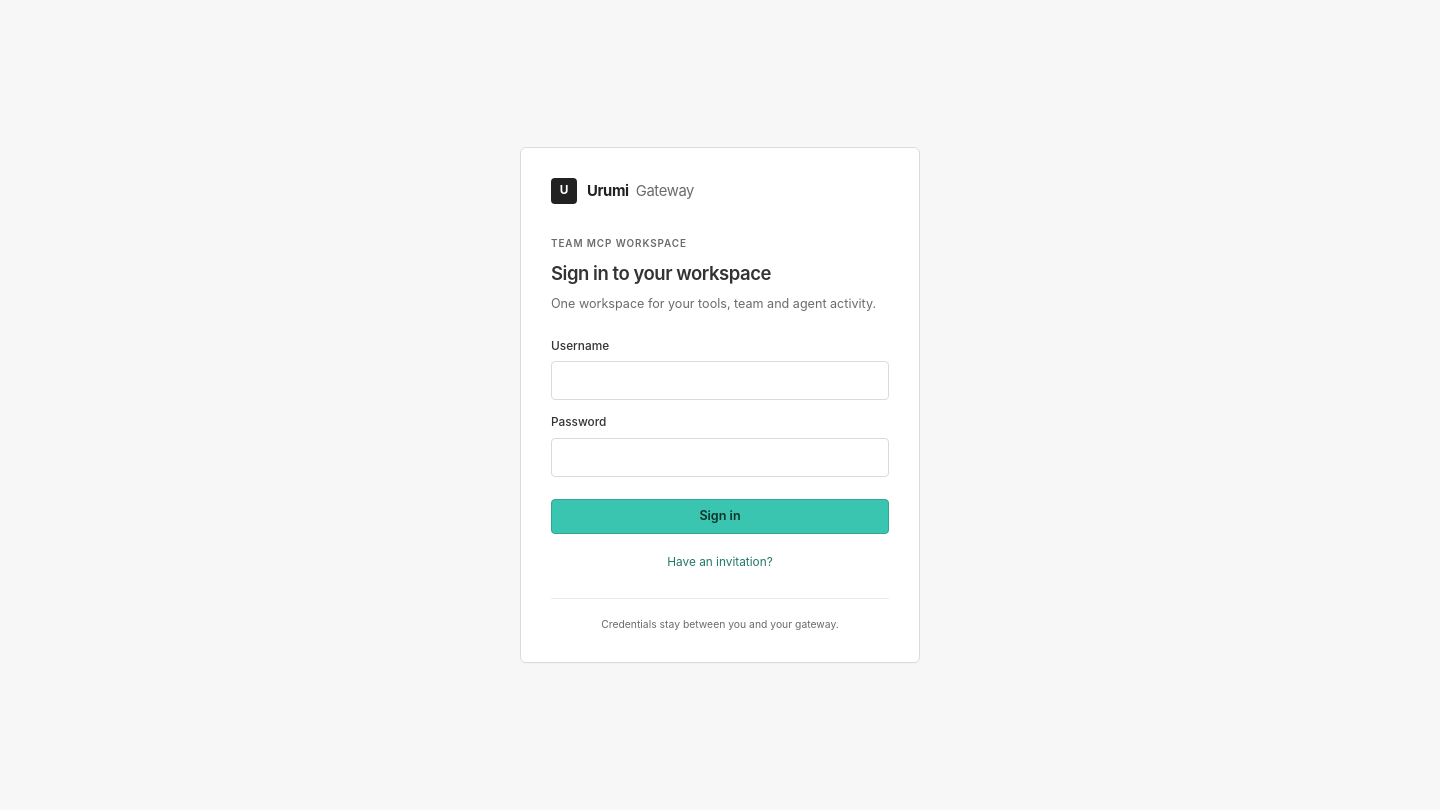
it: loads login then me and signs out
This screenshot has width=1440, height=810.
Expected: the button "Sign in" is shown, [551,499,889,534]
Step 1. Type "fixture_admin" into the field labelled "Username" → (720,381), box [551,361,889,400]
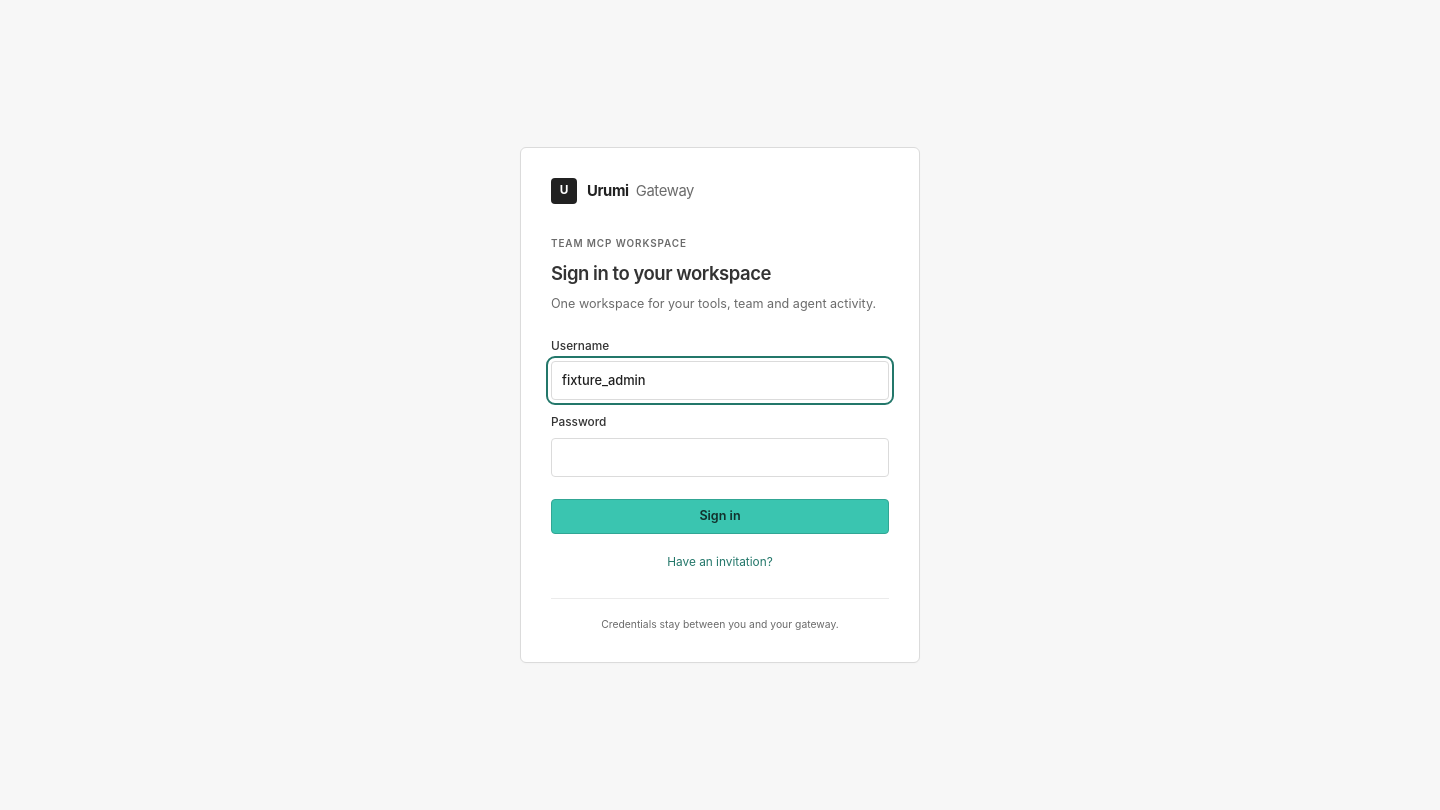
Step 2. Type "synthetic-password-only" into the password field labelled "Password" → (720,457), box [551,438,889,477]
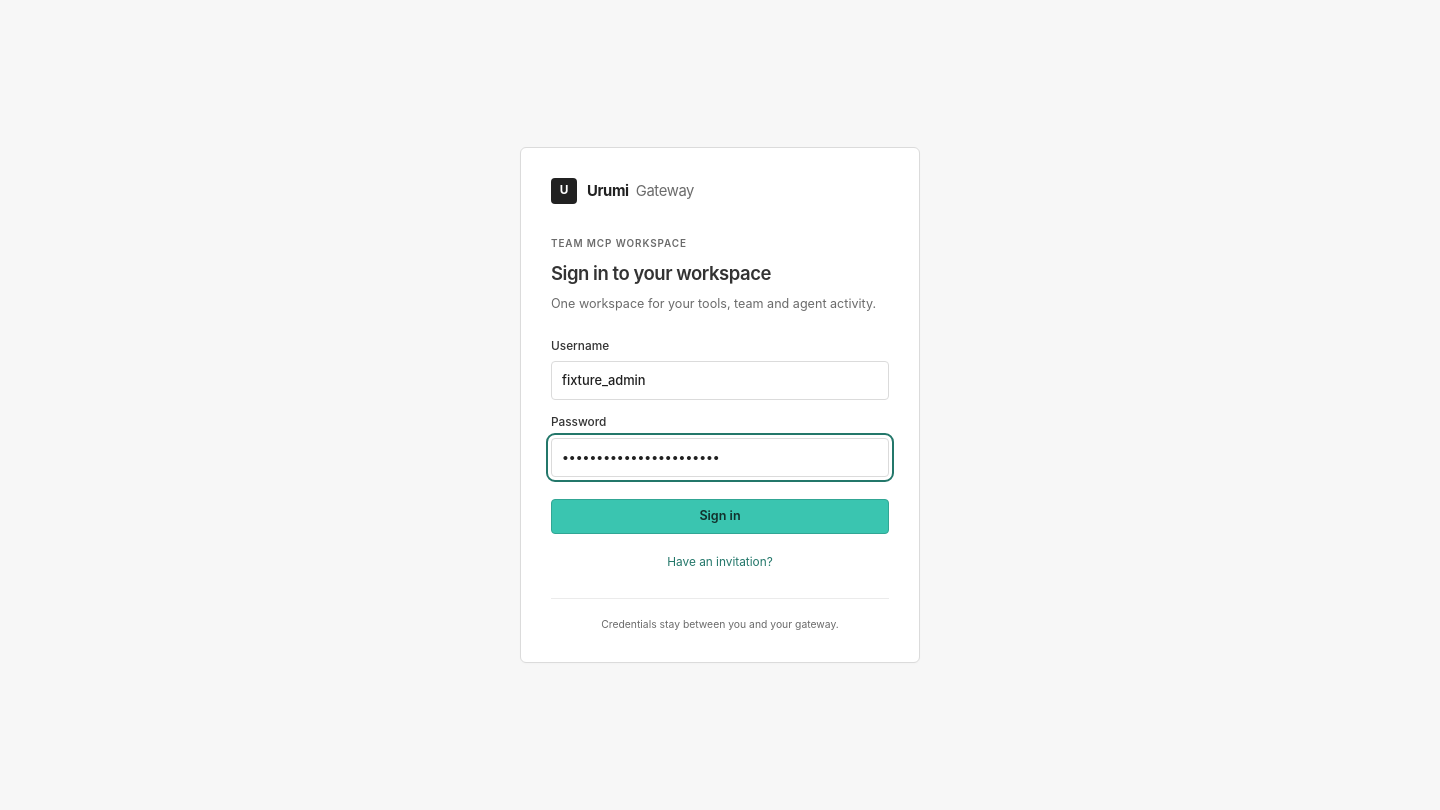
Step 3. Click the button "Sign in" → (720,516), box [551,499,889,534]
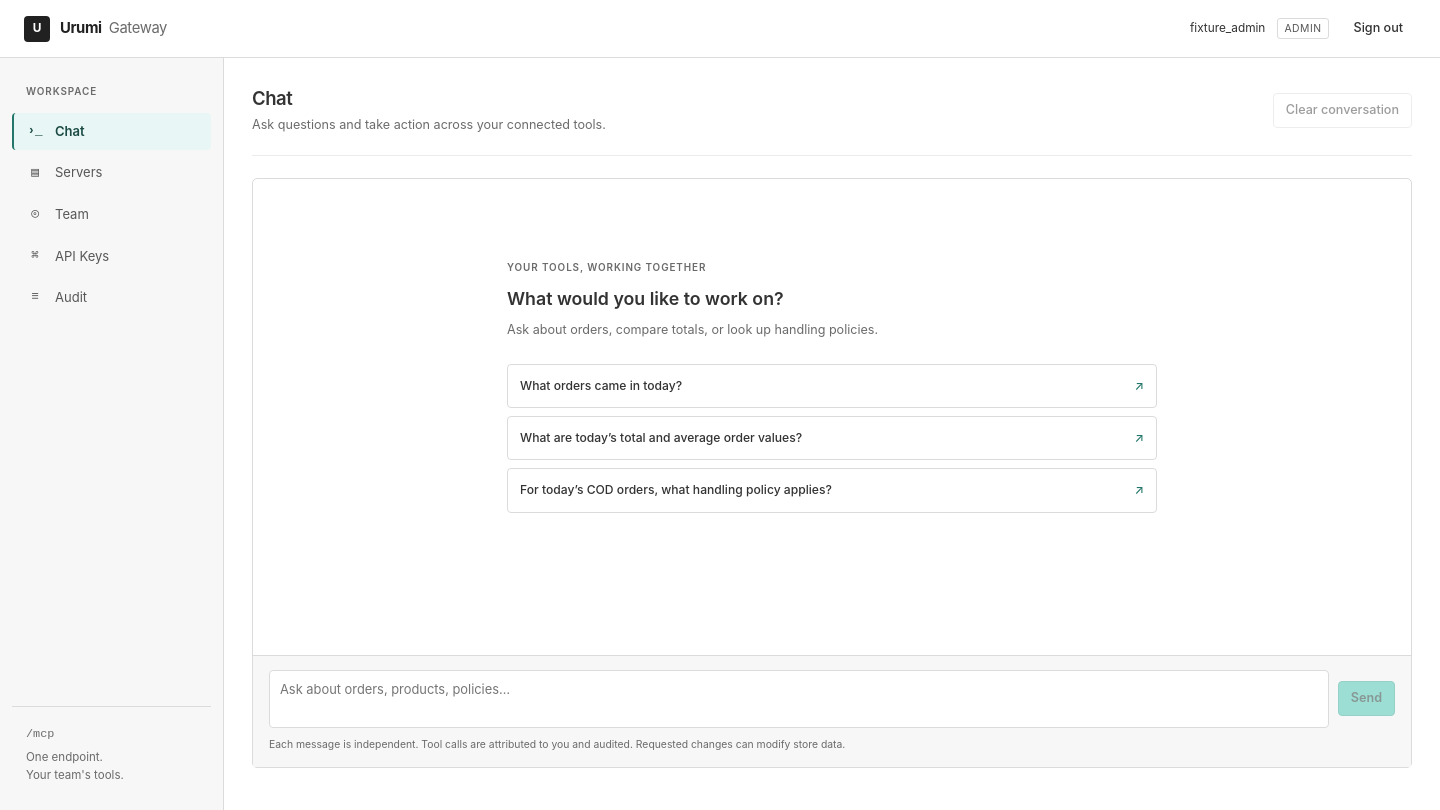
Expected: the heading "Chat" is shown, [252,87,292,109]
Step 4. Click the button "Sign out" → (1378,29), box [1340,11,1416,46]
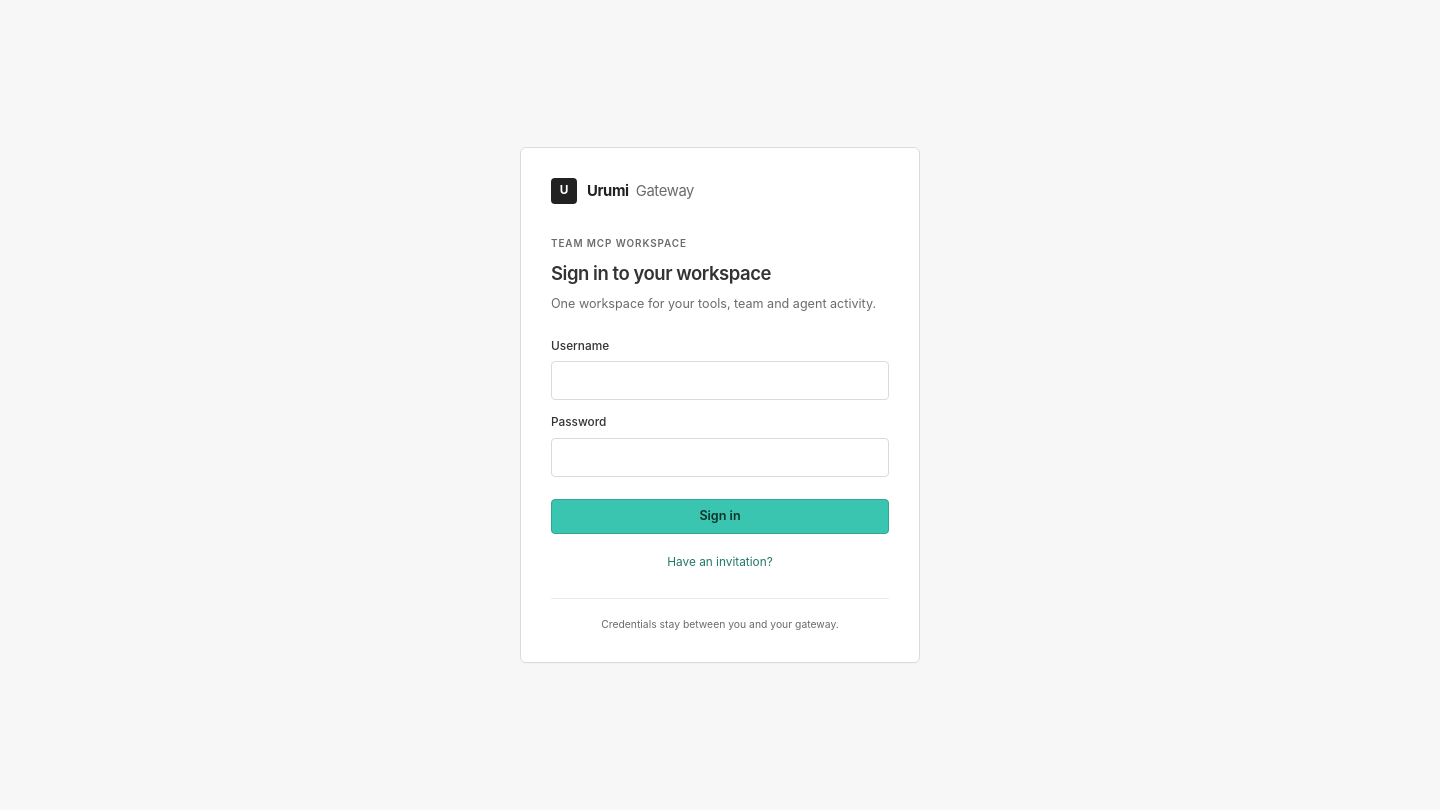
Expected: the button "Sign in" is shown, [551,499,889,534]
